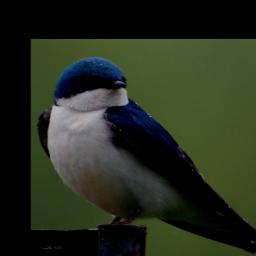Swallow: (36, 56, 256, 256)
